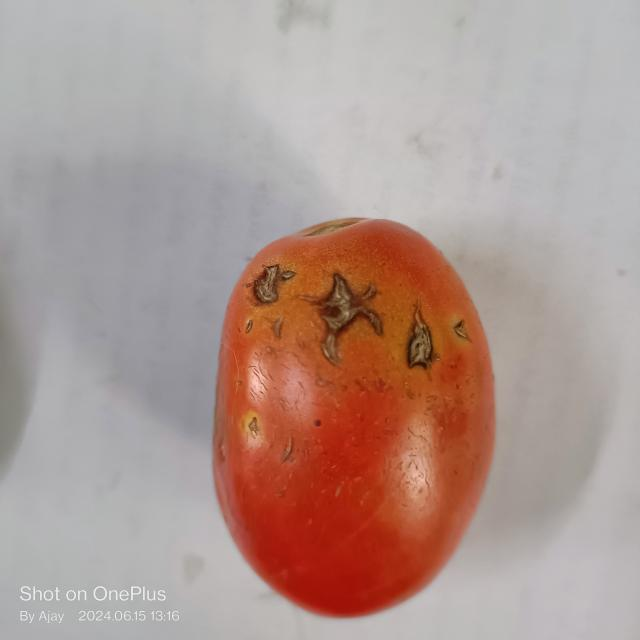Bacterial_Spot: (311, 266, 384, 359), (248, 255, 298, 306), (407, 299, 434, 372), (447, 316, 479, 344)
